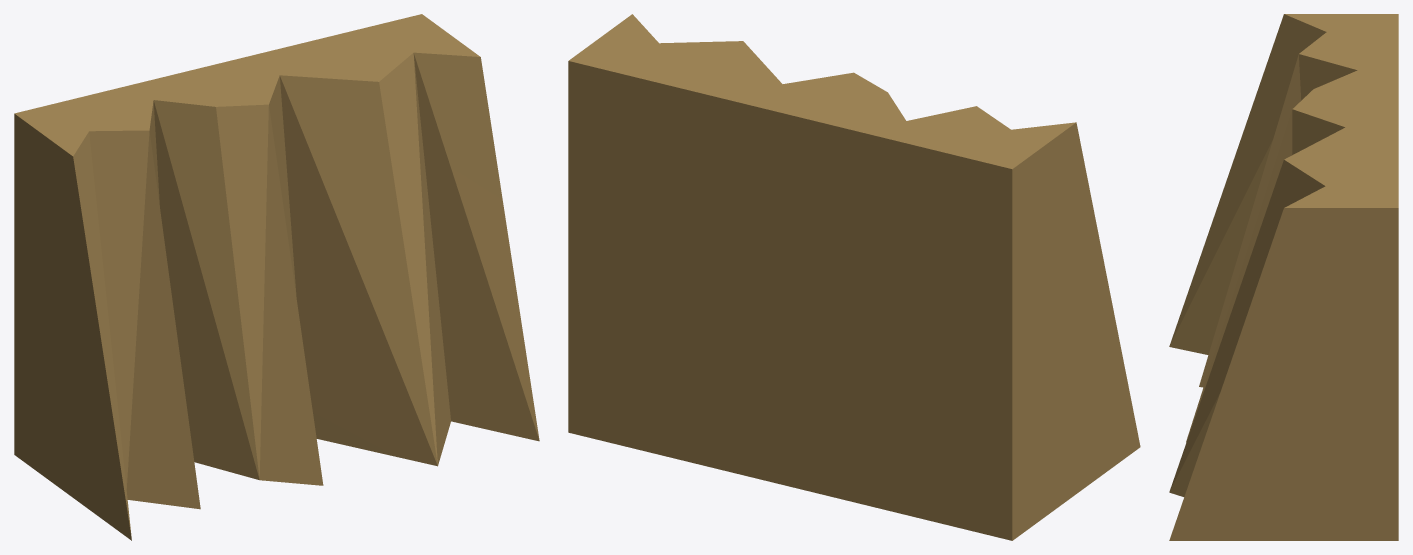
File: Terrain_Modular_Tiles_Dirt_Cliff_Side_Outer_02.fbx
3 views of the same model, side by side, from view 1: azimuth 30°, elevation 25°; view 2: azimuth 150°, elevation 25°; view 3: azimuth 270°, elevation 25° (orthographic). The views are drawn at different scales.
Visible parts, largest first — view 1: Terrain_Modular_Tiles_Dirt_Cliff_Side_Outer_02; view 2: Terrain_Modular_Tiles_Dirt_Cliff_Side_Outer_02; view 3: Terrain_Modular_Tiles_Dirt_Cliff_Side_Outer_02.
Boxes of the visible parts, box(x1,y1,x2,y2) form: Terrain_Modular_Tiles_Dirt_Cliff_Side_Outer_02: box(14, 14, 539, 540); Terrain_Modular_Tiles_Dirt_Cliff_Side_Outer_02: box(568, 14, 1140, 540); Terrain_Modular_Tiles_Dirt_Cliff_Side_Outer_02: box(1169, 14, 1398, 540).
Size of the model in its own units: 118 by 94.49 by 59.06.
